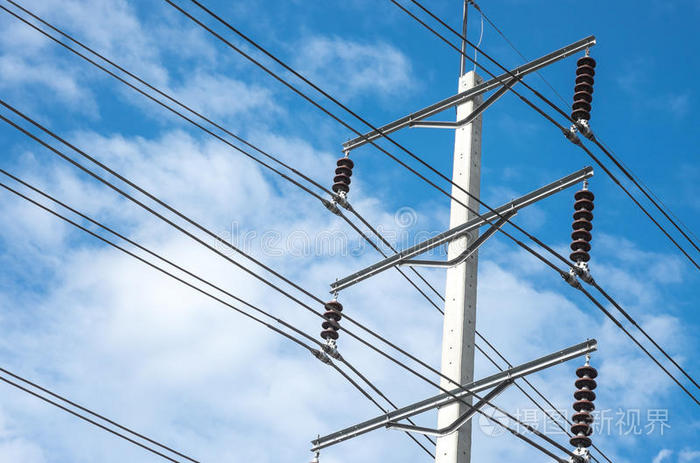insulator: (568, 364, 599, 447), (569, 190, 595, 264), (569, 56, 597, 119), (329, 157, 355, 193), (321, 300, 344, 339)
